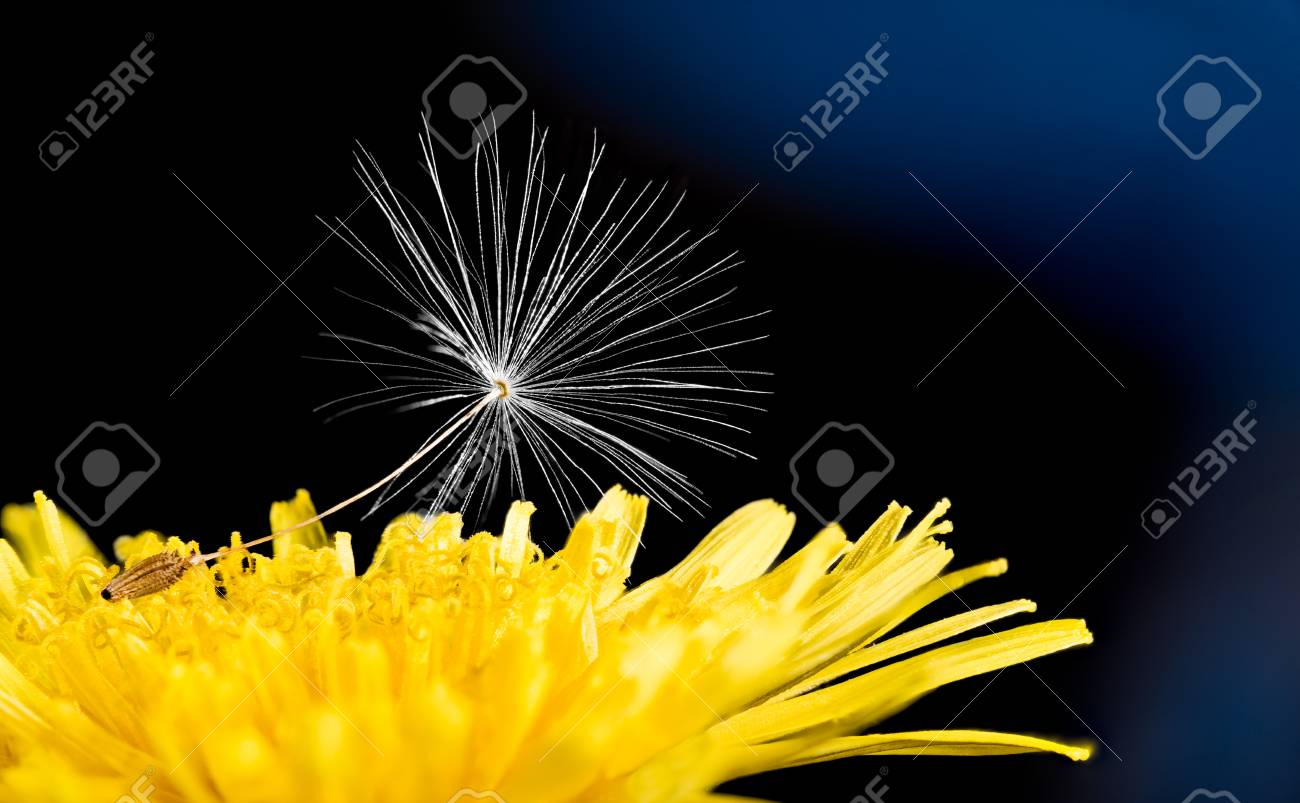dandelion: (3, 504, 1080, 803)
